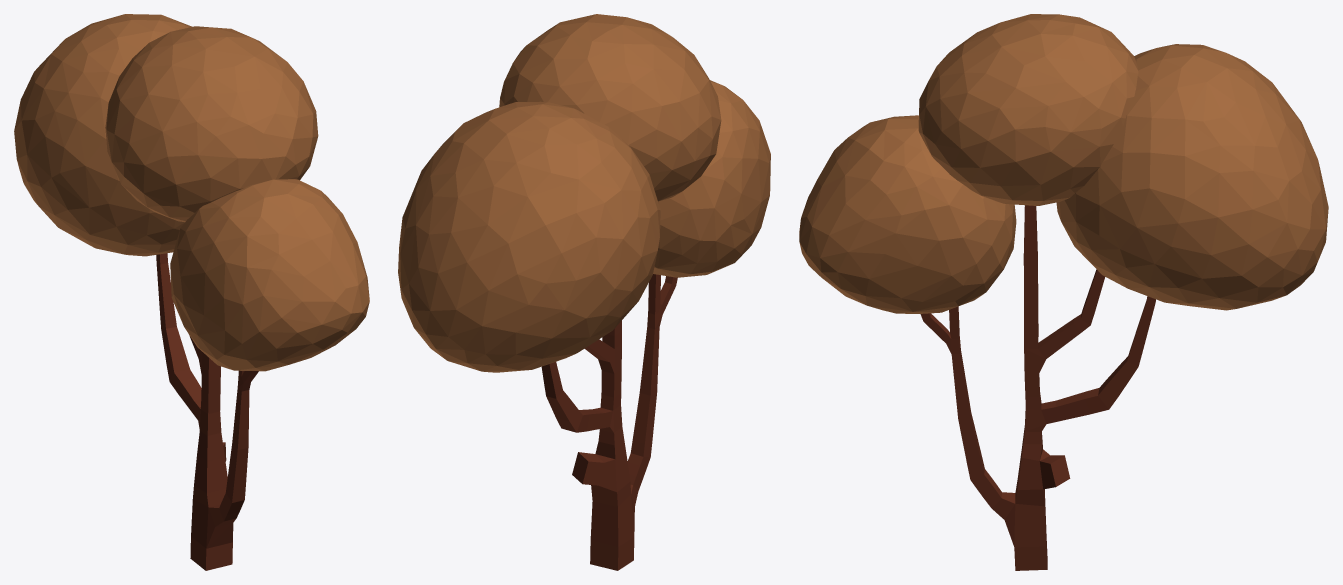
File: MediumOrangeTree.fbx
3 renders of one model, left to right at view 1: azimuth 30°, elevation 25°; view 2: azimuth 150°, elevation 25°; view 3: azimuth 270°, elevation 25°, orthographic. The views are drawn at different scales.
Parts seen in each view (by area): view 1: Icosphere.001; view 2: Icosphere.001; view 3: Icosphere.001.
Part boxes in pixels (x1=…): Icosphere.001: x1=14, y1=14, x2=369, y2=570; Icosphere.001: x1=398, y1=14, x2=770, y2=570; Icosphere.001: x1=799, y1=14, x2=1328, y2=570.
Size of the model in its own units: 81.95 by 190 by 169.
